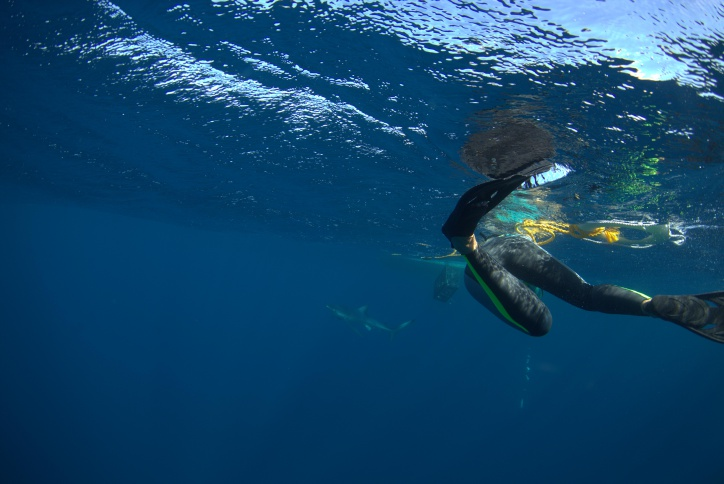Azul: (290, 283, 426, 345)
